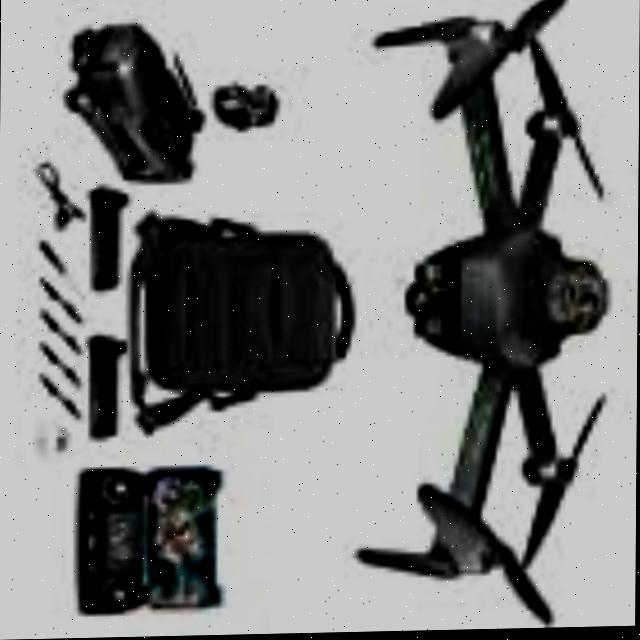drone: (342, 0, 640, 634)
